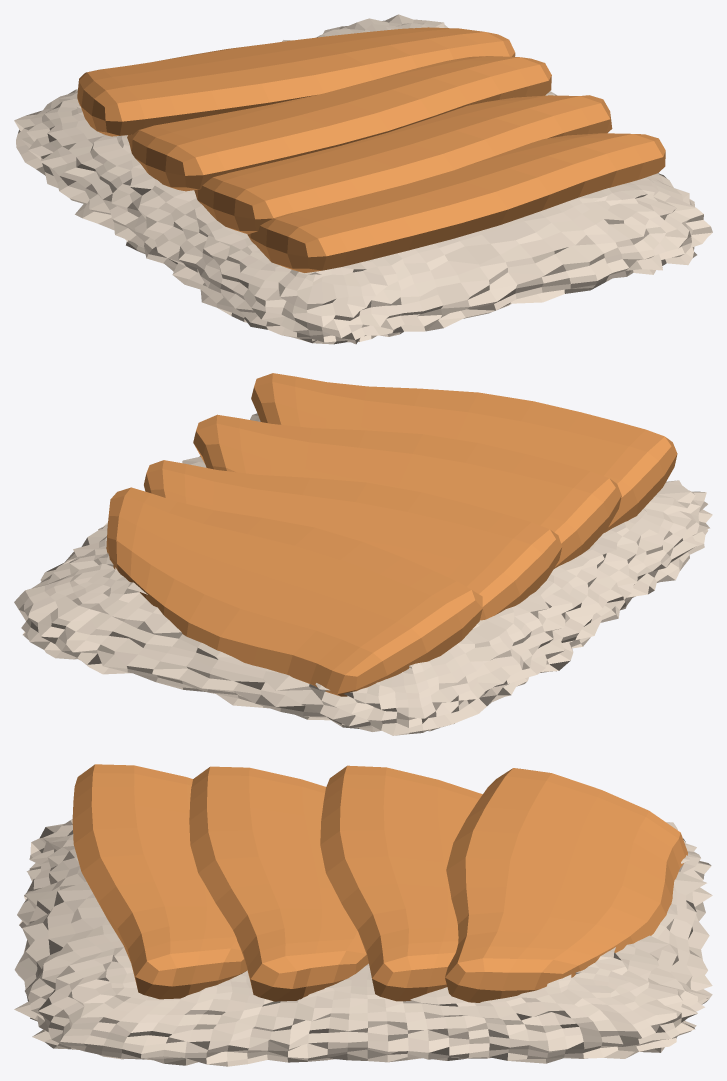
The picture shows the model from 3 angles, top to bottom: view 1: azimuth 30°, elevation 25°; view 2: azimuth 150°, elevation 25°; view 3: azimuth 270°, elevation 25°; orthographic projection. The views are drawn at different scales.
Parts seen in each view (by area): view 1: choppedsalmon, spreadrice; view 2: choppedsalmon, spreadrice; view 3: choppedsalmon, spreadrice.
Part boxes in pixels (bbox=[...]): choppedsalmon: bbox=[77, 27, 665, 272]; spreadrice: bbox=[14, 14, 712, 344]; choppedsalmon: bbox=[106, 373, 677, 696]; spreadrice: bbox=[14, 413, 712, 735]; choppedsalmon: bbox=[72, 764, 687, 1002]; spreadrice: bbox=[14, 819, 712, 1066].
Size of the model in its own units: 1.89 by 0.3745 by 2.25.
